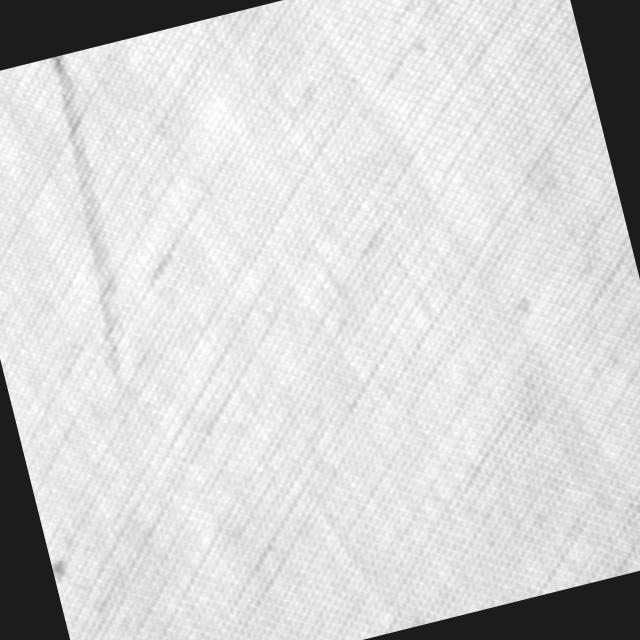oil spot: (29, 53, 150, 390)
